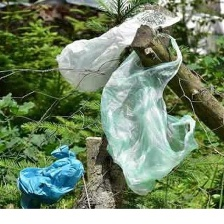plastic_bag: (93, 29, 203, 197), (54, 6, 183, 96), (9, 140, 89, 211)
